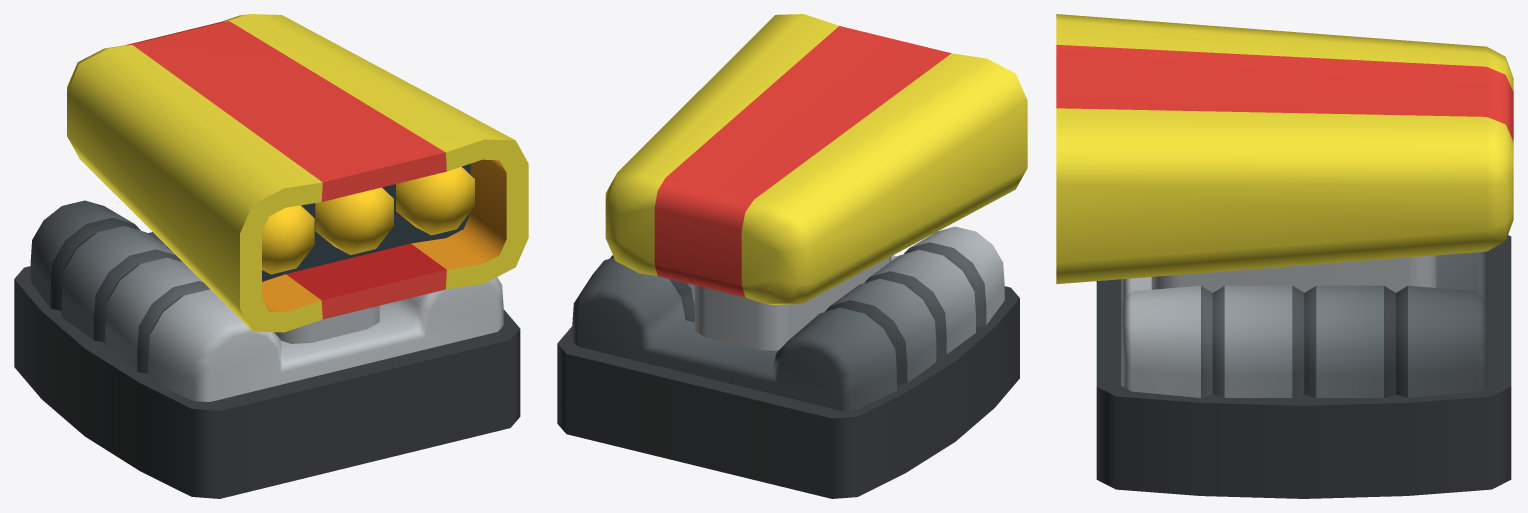
The model's file is Car_09_Engine.fbx.
The picture shows the model from 3 angles, left to right: view 1: azimuth 30°, elevation 25°; view 2: azimuth 150°, elevation 25°; view 3: azimuth 270°, elevation 25°; orthographic projection. The views are drawn at different scales.
Visible parts, largest first — view 1: Car_09_Engine; view 2: Car_09_Engine; view 3: Car_09_Engine.
Part boxes in pixels (x1=…): Car_09_Engine: x1=14, y1=14, x2=528, y2=498; Car_09_Engine: x1=557, y1=14, x2=1027, y2=498; Car_09_Engine: x1=1056, y1=14, x2=1513, y2=498.
Size of the model in its own units: 53.99 by 55.33 by 44.31.
